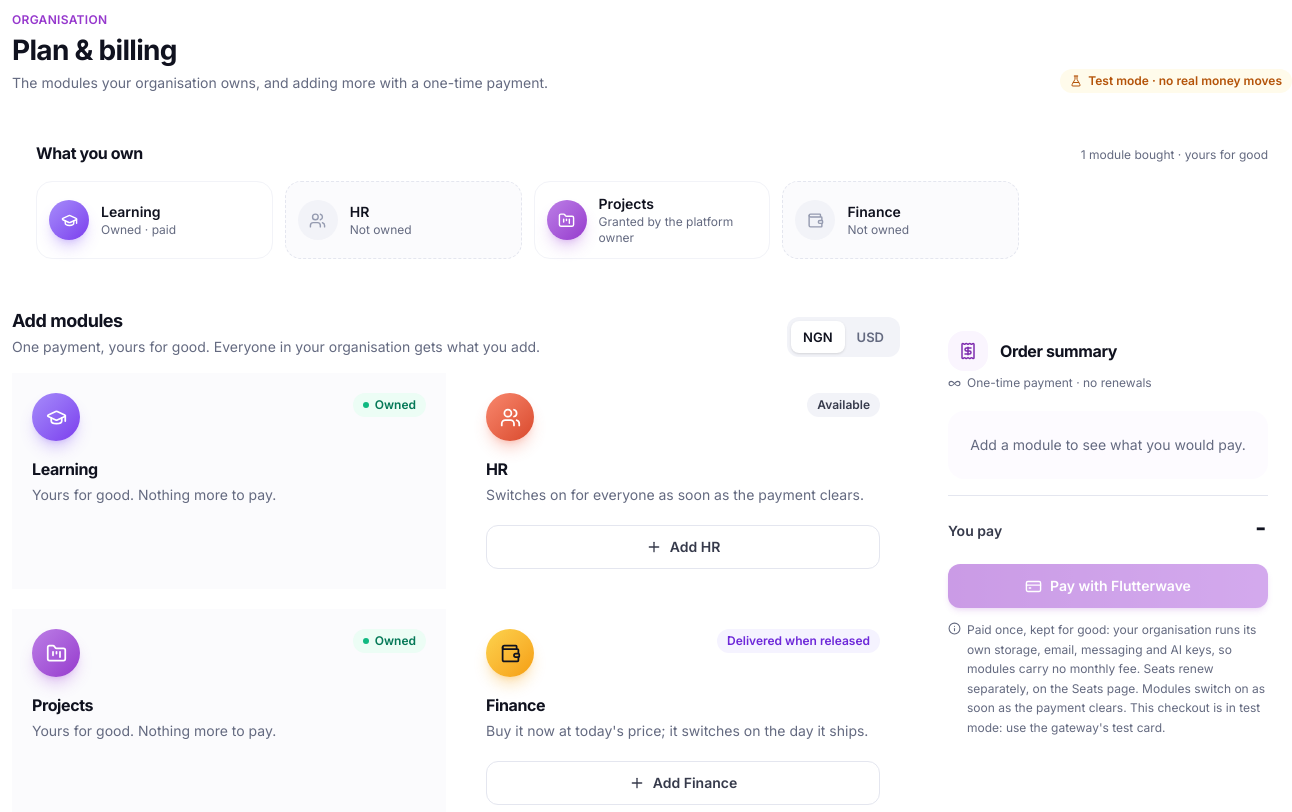
Scenario: Plan & billing: a referral discount › lists the referral discount in the breakdown when the quote carries one
The image size is (1292, 812).
Click the checkbox labelled "Add HR" at (683, 547), box x1=486 y1=525 x2=880 y2=569
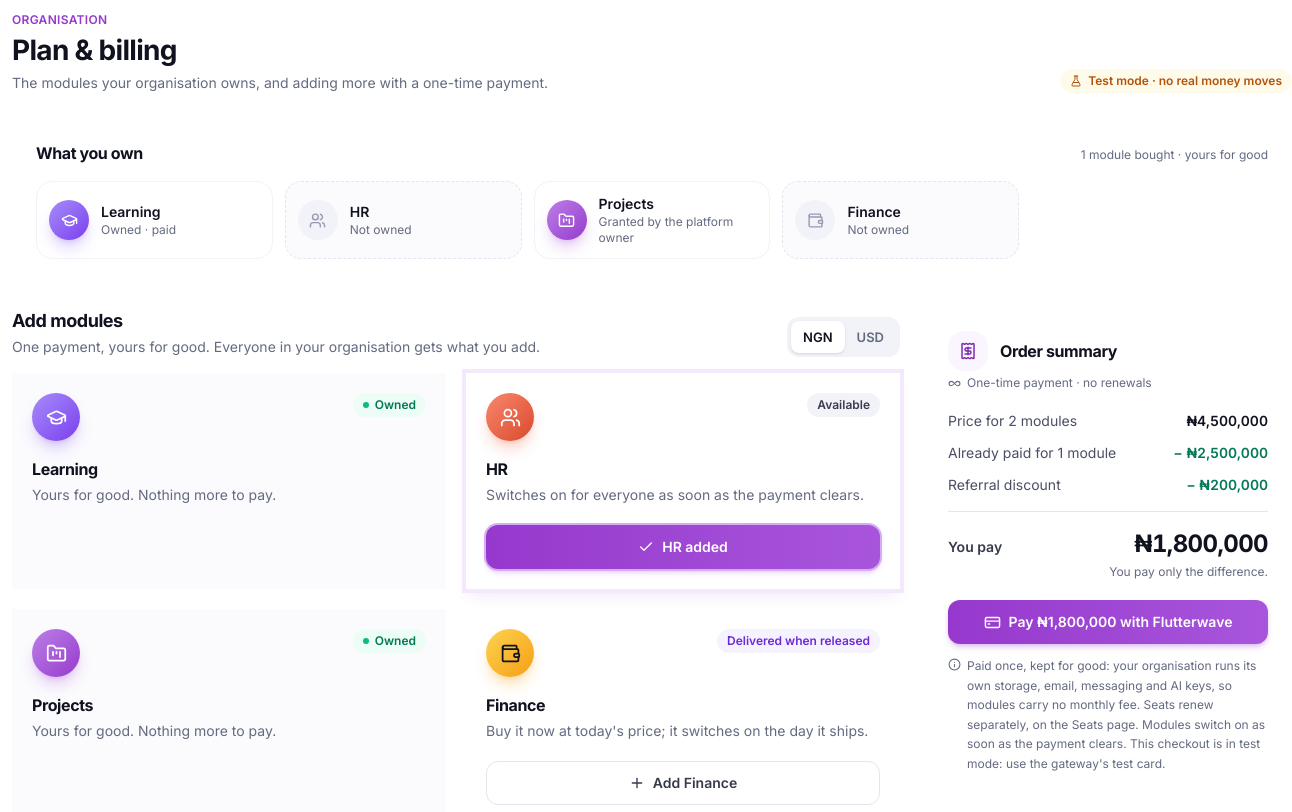
Check: the element "Order summary" shows "Referral discount", box x1=948 y1=476 x2=1061 y2=493
Check: the element "Order summary" shows "− ₦200,000", box x1=924 y1=307 x2=1291 y2=797
Check: the button "Pay ₦1,800,000 with Flutterwave" is enabled, box x1=948 y1=600 x2=1268 y2=644
